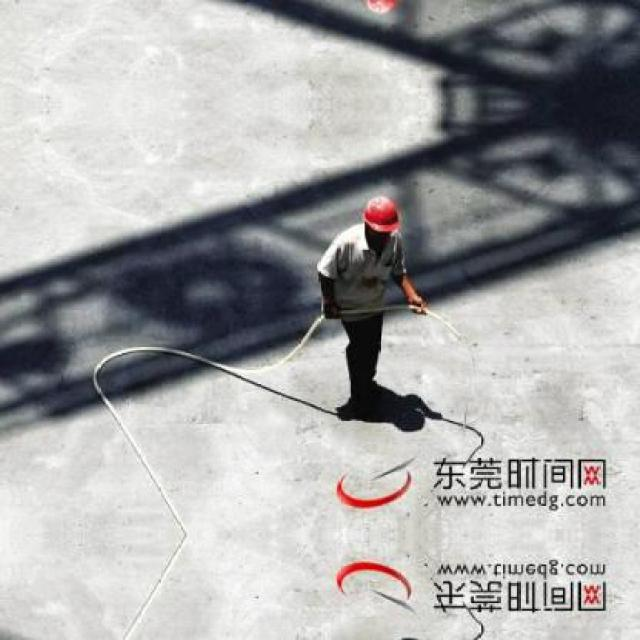helmet: (360, 192, 400, 241), (360, 0, 402, 19)
